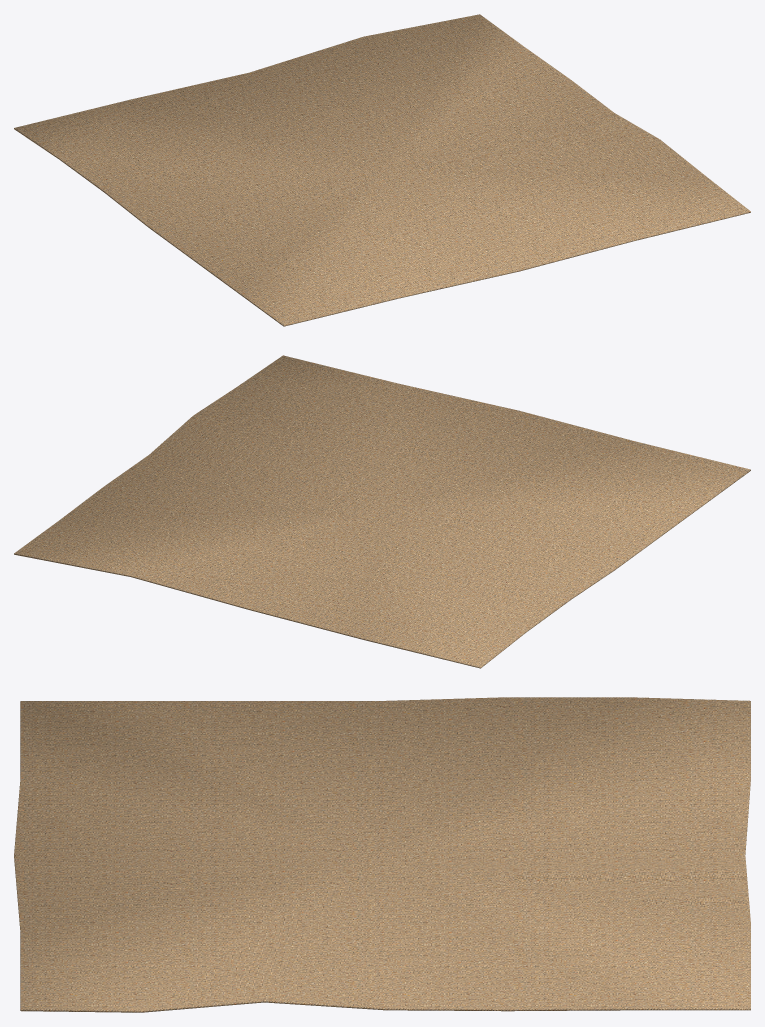
File: carpet_01.fbx
3 renders of one model, top to bottom at view 1: azimuth 30°, elevation 25°; view 2: azimuth 150°, elevation 25°; view 3: azimuth 270°, elevation 25°, orthographic. The views are drawn at different scales.
Visible parts, largest first — view 1: carpet_01; view 2: carpet_01; view 3: carpet_01.
Boxes of the visible parts, bbox=[...] form: carpet_01: bbox=[14, 14, 750, 326]; carpet_01: bbox=[14, 355, 750, 668]; carpet_01: bbox=[14, 697, 750, 1012].
Size of the model in its own units: 8.22 by 0.1272 by 8.25.
